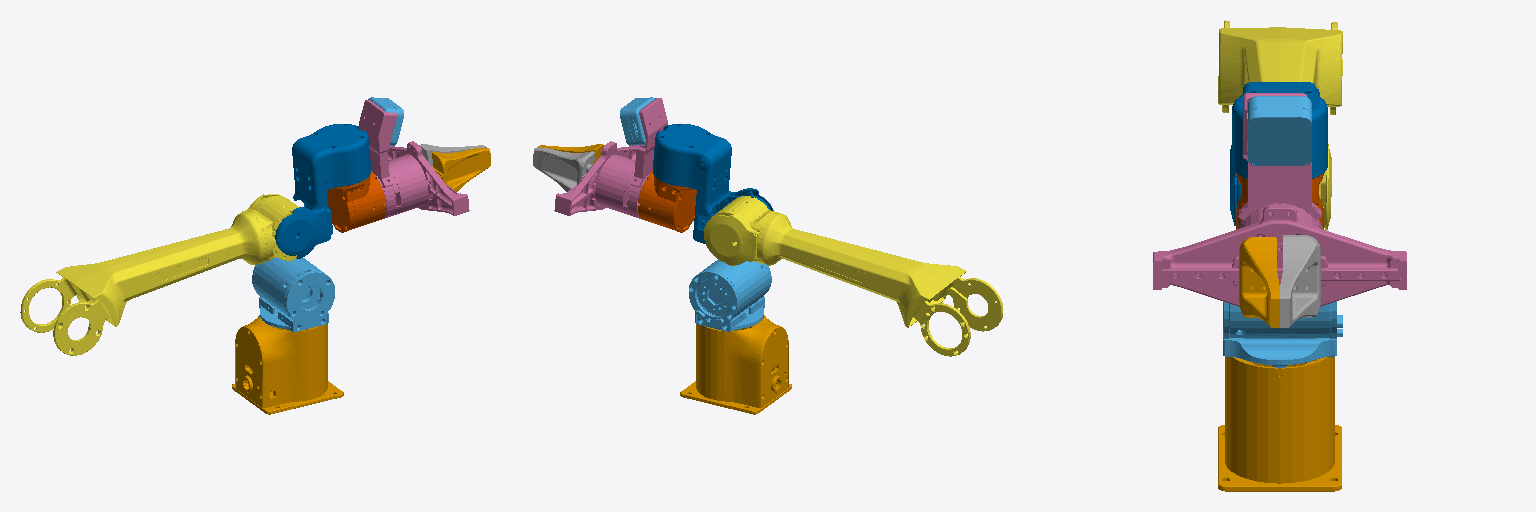
The robot description file, URDF, robot "piper_x_arm":
<?xml version="1.0" ?>
<!-- Single Piper-X arm extracted from cell_v0_4_description (left arm chain).
     Link/joint names are unprefixed and the root is base_link at the origin; mount the arm
     by adding a fixed joint from your own world link (the cell mounts it at
     xyz="0.03 0.3 0.026" for left, xyz="0.03 -0.3 0.026" for right).

     Visual geometry:    meshes/*.obj   (+ .mtl, colored) from scene.urdf
     Collision geometry: meshes/*_c.stl from piper_x_left_arm.xml, where every collision geom
                         is attached with no pos/quat -> identity origin in the link frame.
     The collision meshes are the same geometry as the visuals, so they align exactly.
     Adjacent links touch by design; disable those pairs in your planner/sim (see README). -->
<robot name="piper_x_arm">
   <link name="base_link">
      <inertial>
         <origin xyz="0.0 0.0 0.0" rpy="0.0 0.0 0.0"/>
         <mass value="1.22721"/>
         <inertia ixx="0.001" iyy="0.001" izz="0.001" ixy="0" ixz="0" iyz="0"/>
      </inertial>
      <visual name="base_link_visual">
         <origin xyz="-0.011244281468016997 -1.010561477046947e-06 0.03392008272690317" rpy="1.7426486088546889 0.00017701955199189712 1.5709460178032604"/>
         <geometry>
            <mesh filename="meshes/base_link.obj"/>
         </geometry>
      </visual>
      <collision name="base_link_collision">
         <origin xyz="0.0 0.0 0.0" rpy="0.0 0.0 0.0"/>
         <geometry>
            <mesh filename="meshes/base_link_c.stl"/>
         </geometry>
      </collision>
   </link>
   <link name="link2">
      <inertial>
         <origin xyz="0.0 0.0 0.0" rpy="0.0 0.0 0.0"/>
         <mass value="0.81975"/>
         <inertia ixx="0.001" iyy="0.001" izz="0.001" ixy="0" ixz="0" iyz="0"/>
      </inertial>
      <visual name="link2_visual">
         <origin xyz="-9.767122197863375e-05 0.0009453204458628601 0.1138690870616691" rpy="1.6250494109953584 0.016684562283199478 -0.0028763569011144297"/>
         <geometry>
            <mesh filename="meshes/link_2.obj"/>
         </geometry>
      </visual>
      <collision name="link2_collision">
         <origin xyz="0.0 0.0 0.0" rpy="0.0 0.0 0.0"/>
         <geometry>
            <mesh filename="meshes/link_2_c.stl"/>
         </geometry>
      </collision>
   </link>
   <joint type="revolute" name="joint1">
      <parent link="base_link"/>
      <child link="link2"/>
      <origin xyz="0.0 0.0 0.0" rpy="0.0 0.0 0.0"/>
      <axis xyz="0.0 0.0 1.0"/>
      <limit lower="-2.6005" upper="2.6005" effort="100" velocity="100"/>
   </joint>
   <link name="link3">
      <inertial>
         <origin xyz="0.0 0.0 0.0" rpy="0.0 0.0 0.0"/>
         <mass value="0.92783"/>
         <inertia ixx="0.001" iyy="0.001" izz="0.001" ixy="0" ixz="0" iyz="0"/>
      </inertial>
      <visual name="link3_visual">
         <origin xyz="-0.1742261888136016 0.0012168272137474824 0.005773590190610324" rpy="-2.8198409023950175 -1.4697941391757023 -0.32662181087703535"/>
         <geometry>
            <mesh filename="meshes/link_3.obj"/>
         </geometry>
      </visual>
      <collision name="link3_collision">
         <origin xyz="0.0 0.0 0.0" rpy="0.0 0.0 0.0"/>
         <geometry>
            <mesh filename="meshes/link_3_c.stl"/>
         </geometry>
      </collision>
   </link>
   <joint type="revolute" name="joint2">
      <parent link="link2"/>
      <child link="link3"/>
      <origin xyz="0.0 0.0 0.119" rpy="0.0 0.0 0.0"/>
      <axis xyz="0.0 1.0 0.0"/>
      <limit lower="0.0" upper="3.3161" effort="100" velocity="100"/>
   </joint>
   <link name="link4">
      <inertial>
         <origin xyz="0.0 0.0 0.0" rpy="0.0 0.0 0.0"/>
         <mass value="0.68003"/>
         <inertia ixx="0.001" iyy="0.001" izz="0.001" ixy="0" ixz="0" iyz="0"/>
      </inertial>
      <visual name="link4_visual">
         <origin xyz="0.16005931792141162 0.0014236830679848524 0.0305053649311999" rpy="0.1056889750676342 -1.4631117698064668 3.0506784591904816"/>
         <geometry>
            <mesh filename="meshes/link_4.obj"/>
         </geometry>
      </visual>
      <collision name="link4_collision">
         <origin xyz="0.0 0.0 0.0" rpy="0.0 0.0 0.0"/>
         <geometry>
            <mesh filename="meshes/link_4_c.stl"/>
         </geometry>
      </collision>
   </link>
   <joint type="revolute" name="joint3">
      <parent link="link3"/>
      <child link="link4"/>
      <origin xyz="-0.283586 0.0 0.02883" rpy="0.0 0.0 0.0"/>
      <axis xyz="0.0 1.0 0.0"/>
      <limit lower="-2.9671" upper="0.0" effort="100" velocity="100"/>
   </joint>
   <link name="link5">
      <inertial>
         <origin xyz="0.0 0.0 0.0" rpy="0.0 0.0 0.0"/>
         <mass value="0.4411"/>
         <inertia ixx="0.001" iyy="0.001" izz="0.001" ixy="0" ixz="0" iyz="0"/>
      </inertial>
      <visual name="link5_visual">
         <origin xyz="0.05088288951763401 -0.004411009807068545 0.04450435825574476" rpy="0.6893691258930872 -0.0061238953567661625 1.9082920001257193"/>
         <geometry>
            <mesh filename="meshes/link_5.obj"/>
         </geometry>
      </visual>
      <collision name="link5_collision">
         <origin xyz="0.0 0.0 0.0" rpy="0.0 0.0 0.0"/>
         <geometry>
            <mesh filename="meshes/link_5_c.stl"/>
         </geometry>
      </collision>
   </link>
   <joint type="revolute" name="joint4">
      <parent link="link4"/>
      <child link="link5"/>
      <origin xyz="0.269798 0.0 0.045672" rpy="0.0 0.0 0.0"/>
      <axis xyz="0.0 1.0 0.0"/>
      <limit lower="-1.4835" upper="1.4835" effort="100" velocity="100"/>
   </joint>
   <link name="link6">
      <inertial>
         <origin xyz="0.0 0.0 0.0" rpy="0.0 0.0 0.0"/>
         <mass value="0.2945"/>
         <inertia ixx="0.001" iyy="0.001" izz="0.001" ixy="0" ixz="0" iyz="0"/>
      </inertial>
      <visual name="link6_visual">
         <origin xyz="0.012282412776116206 -0.00023994273150809218 -0.02916035091113167" rpy="0.0370251996873707 -0.42052079595058434 -0.006102755997939965"/>
         <geometry>
            <mesh filename="meshes/link_6.obj"/>
         </geometry>
      </visual>
      <collision name="link6_collision">
         <origin xyz="0.0 0.0 0.0" rpy="0.0 0.0 0.0"/>
         <geometry>
            <mesh filename="meshes/link_6_c.stl"/>
         </geometry>
      </collision>
   </link>
   <joint type="revolute" name="joint5">
      <parent link="link5"/>
      <child link="link6"/>
      <origin xyz="0.073273 0.0 0.042046" rpy="0.0 0.0 0.0"/>
      <axis xyz="0.08687035133604572 0.0 -0.9962196254133683"/>
      <limit lower="-1.4835" upper="1.4835" effort="100" velocity="100"/>
   </joint>
   <link name="gripper_body">
      <inertial>
         <origin xyz="0.0 0.0 0.0" rpy="0.0 0.0 0.0"/>
         <mass value="0.056113"/>
         <inertia ixx="0.001" iyy="0.001" izz="0.001" ixy="0" ixz="0" iyz="0"/>
      </inertial>
      <visual name="gripper_body_visual">
         <origin xyz="0.031190171230021033 -0.000554741960304047 0.014723965936904084" rpy="0.26350911894661133 -0.5758847821637075 0.009503250093641474"/>
         <geometry>
            <mesh filename="meshes/gripper_body.obj"/>
         </geometry>
      </visual>
      <collision name="gripper_body_collision">
         <origin xyz="0.0 0.0 0.0" rpy="0.0 0.0 0.0"/>
         <geometry>
            <mesh filename="meshes/gripper_body_c.stl"/>
         </geometry>
      </collision>
   </link>
   <joint type="revolute" name="joint6">
      <parent link="link6"/>
      <child link="gripper_body"/>
      <origin xyz="0.038223 0.0 -0.03229" rpy="0.0 0.0 0.0"/>
      <axis xyz="0.9962196254133683 0.0 0.08687035133604572"/>
      <limit lower="-2.7925" upper="2.7925" effort="100" velocity="100"/>
   </joint>
   <link name="gripper_left">
      <inertial>
         <origin xyz="0.0 0.0 0.0" rpy="0.0 0.0 0.0"/>
         <mass value="0.0264822"/>
         <inertia ixx="0.001" iyy="0.001" izz="0.001" ixy="0" ixz="0" iyz="0"/>
      </inertial>
      <visual name="gripper_left_visual">
         <origin xyz="0.02144491209430425 0.009877865742879091 0.002638495140358883" rpy="1.5458242052962465 -0.021750323645520542 1.3823532094128808"/>
         <geometry>
            <mesh filename="meshes/gripper_left.obj"/>
         </geometry>
      </visual>
      <collision name="gripper_left_collision">
         <origin xyz="0.0 0.0 0.0" rpy="0.0 0.0 0.0"/>
         <geometry>
            <mesh filename="meshes/gripper_left_c.stl"/>
         </geometry>
      </collision>
   </link>
   <joint type="prismatic" name="gripper_left_joint">
      <parent link="gripper_body"/>
      <child link="gripper_left"/>
      <origin xyz="0.06662 0.0 0.005829" rpy="0.0 0.0 0.0"/>
      <axis xyz="0.0 1.0 0.0"/>
      <limit lower="0.0" upper="0.05" effort="5" velocity="100"/>
   </joint>
   <link name="gripper_right">
      <inertial>
         <origin xyz="0.0 0.0 0.0" rpy="0.0 0.0 0.0"/>
         <mass value="0.0264822"/>
         <inertia ixx="0.001" iyy="0.001" izz="0.001" ixy="0" ixz="0" iyz="0"/>
      </inertial>
      <visual name="gripper_right_visual">
         <origin xyz="0.02157728519612355 -0.009877865768961358 0.001125459272327901" rpy="1.4243596459137853 0.011103826152435436 1.760154332439164"/>
         <geometry>
            <mesh filename="meshes/gripper_right.obj"/>
         </geometry>
      </visual>
      <collision name="gripper_right_collision">
         <origin xyz="0.0 0.0 0.0" rpy="0.0 0.0 0.0"/>
         <geometry>
            <mesh filename="meshes/gripper_right_c.stl"/>
         </geometry>
      </collision>
   </link>
   <!-- The two fingers are coupled 1:1 in the source MJCF (equality/joint polycoef="0 1 0 0 0");
        opposed axes make them close symmetrically, so one command drives both. -->
   <joint type="prismatic" name="gripper_right_joint">
      <parent link="gripper_body"/>
      <child link="gripper_right"/>
      <origin xyz="0.06662 0.0 0.005829" rpy="0.0 0.0 0.0"/>
      <axis xyz="0.0 -1.0 0.0"/>
      <limit lower="0.0" upper="0.05" effort="5" velocity="100"/>
      <mimic joint="gripper_left_joint" multiplier="1.0" offset="0.0"/>
   </joint>
   <link name="camera">
      <inertial>
         <origin xyz="0.0 0.0 0.0" rpy="0.0 0.0 0.0"/>
         <mass value="0.1"/>
         <inertia ixx="0.001" iyy="0.001" izz="0.001" ixy="0" ixz="0" iyz="0"/>
      </inertial>
      <visual name="camera_visual">
         <origin xyz="-0.01063367359559352 5.461803380010684e-05 0.003039582872210959" rpy="1.5716437365592997 0.27800578812372234 0.0030877851067998563"/>
         <geometry>
            <mesh filename="meshes/d405.obj"/>
         </geometry>
      </visual>
      <collision name="camera_collision">
         <origin xyz="0.0 0.0 0.0" rpy="0.0 0.0 0.0"/>
         <geometry>
            <mesh filename="meshes/d405_c.stl"/>
         </geometry>
      </collision>
   </link>
   <joint type="fixed" name="gripper_body2camera_fixed">
      <parent link="gripper_body"/>
      <child link="camera"/>
      <origin xyz="0.021336 0.0 0.0793" rpy="0.0 0.0 0.0"/>
   </joint>
   <!-- Grasp reference frame (site "left_gripper_center" in the source MJCF). -->
   <link name="gripper_center"/>
   <joint type="fixed" name="gripper_body2gripper_center_fixed">
      <parent link="gripper_body"/>
      <child link="gripper_center"/>
      <origin xyz="0.139591 0.0 0.012214" rpy="0.0 0.0 0.0"/>
   </joint>
</robot>

--- Facts derived from the render (not from the file) ---
3 views of the same robot in one strip: view 1: azimuth 30°, elevation 25°; view 2: azimuth 150°, elevation 25°; view 3: azimuth 270°, elevation 25° (orthographic).
Robot: piper_x_arm — 11 links, 10 joints (6 revolute, 2 prismatic, 2 fixed); root link base_link; default pose: every joint at zero.
Visible links, largest first — view 1: link4, base_link, link5, gripper_body, link2, link6, gripper_right, camera; view 2: link4, base_link, link5, gripper_body, link2, link6, gripper_left, camera; view 3: base_link, gripper_body, link4, link2, camera, link5, gripper_left, gripper_right, link6.
Boxes of the visible links, <box> form: link4: <box>20,194,298,355</box>; base_link: <box>232,315,343,414</box>; link5: <box>275,124,370,258</box>; gripper_body: <box>359,100,469,218</box>; link2: <box>252,257,334,331</box>; link6: <box>327,171,385,232</box>; gripper_right: <box>432,148,490,191</box>; camera: <box>368,97,403,145</box>; link4: <box>704,196,1002,356</box>; base_link: <box>680,315,791,414</box>; link5: <box>653,124,773,243</box>; gripper_body: <box>554,98,667,218</box>; link2: <box>689,259,771,331</box>; link6: <box>638,171,696,232</box>; gripper_left: <box>533,147,594,191</box>; camera: <box>620,97,654,145</box>; base_link: <box>1218,357,1341,491</box>; gripper_body: <box>1153,93,1406,306</box>; link4: <box>1218,20,1342,230</box>; link2: <box>1223,301,1342,367</box>; camera: <box>1247,96,1311,165</box>; link5: <box>1230,82,1327,225</box>; gripper_left: <box>1280,235,1320,327</box>; gripper_right: <box>1239,237,1279,327</box>; link6: <box>1236,174,1323,229</box>.
Bounding box of the posed robot: 0.5517 × 0.164 × 0.3123 m (x, y, z).
9 mesh visuals loaded from 10 distinct referenced files (9 OBJ); not drawn: 1 (reference not matched to a file when rendering).
